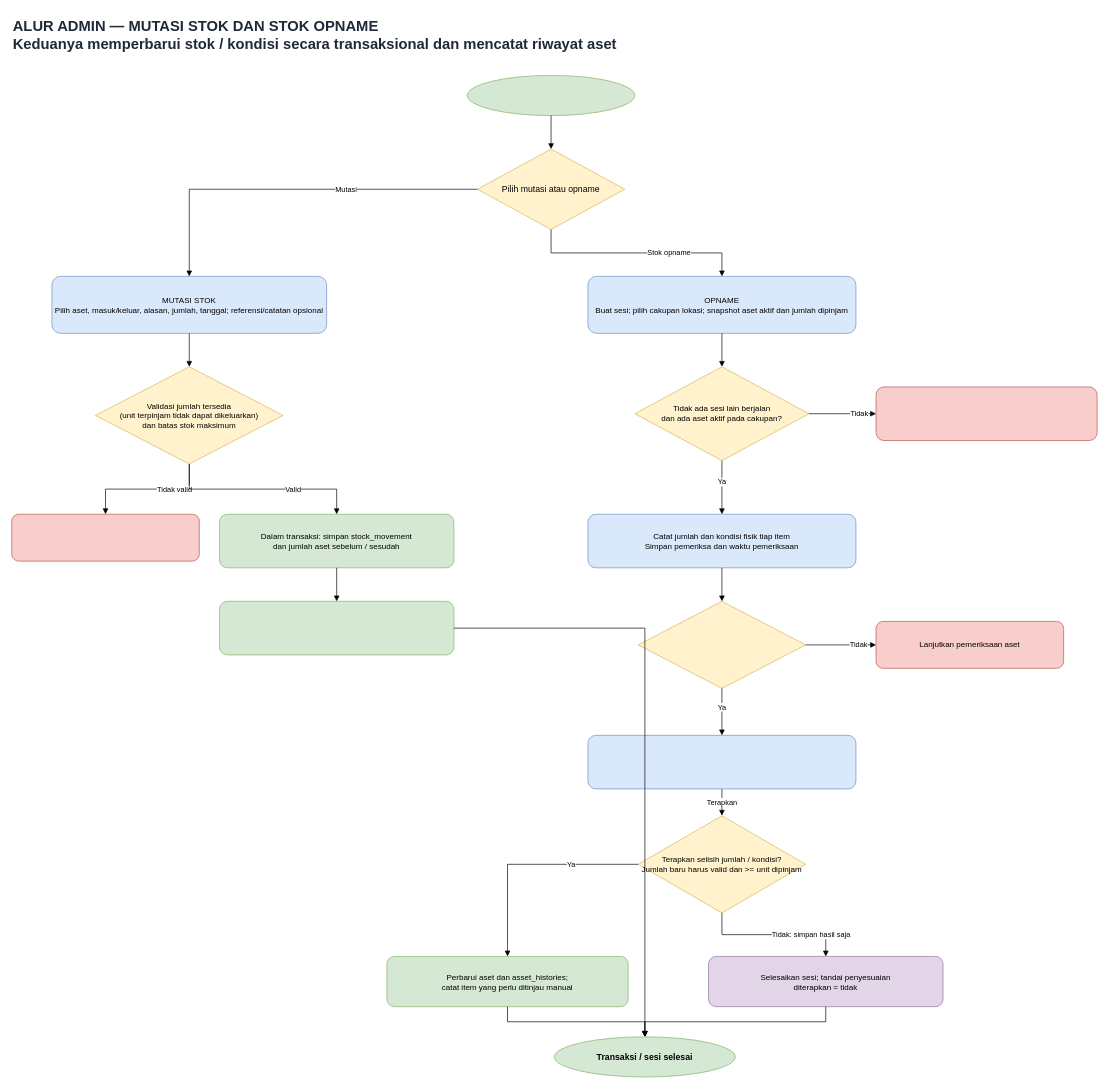
The diagram is 1109 pixels wide and 1089 high, and some of its shapes have lost their labels. Here are the shapes that lost their labels. From the top down, the box of each, then its label:
(467, 75, 635, 116): Admin login
(875, 386, 1097, 441): Tampilkan error; selesaikan sesi lama atau pilih lokasi dengan aset aktif
(11, 514, 199, 561): Tampilkan error; jangan ubah stok
(219, 601, 454, 655): Catat asset_history; nol unit = nonaktif, stok masuk pada aset kosong = aktif
(638, 601, 806, 688): Minimal satu aset sudah dicek?
(587, 735, 856, 789): Konfirmasi selesai; pilih terapkan atau simpan hasil tanpa ubah aset
